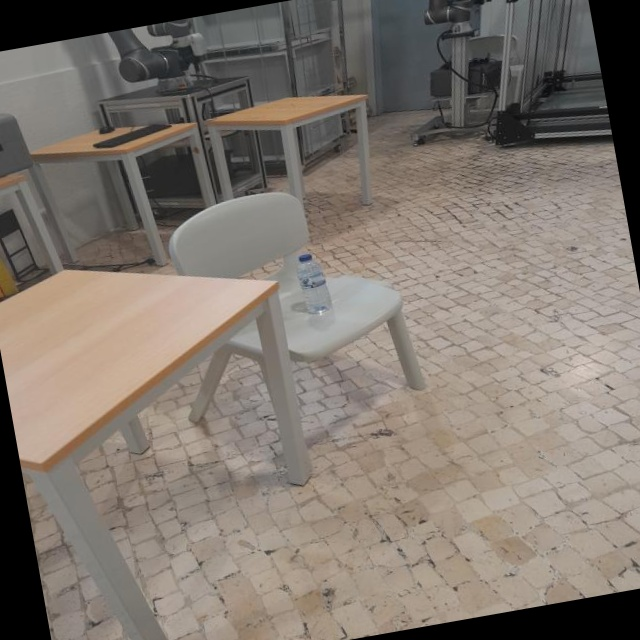Plastic-bottle: (304, 251, 338, 314)
